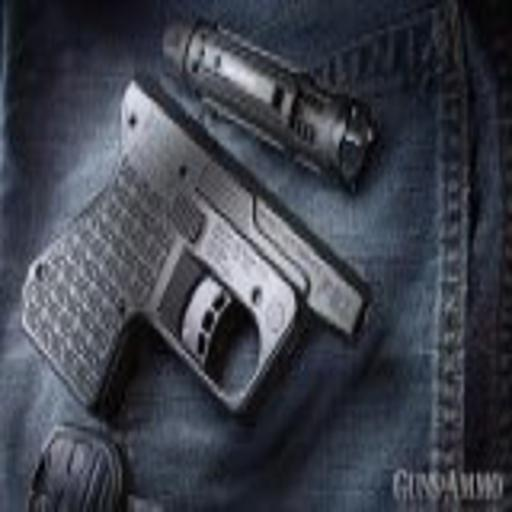Handgun: (15, 80, 370, 421)
